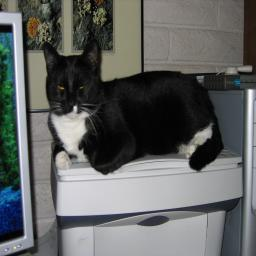catnose: (66, 99, 76, 111)
